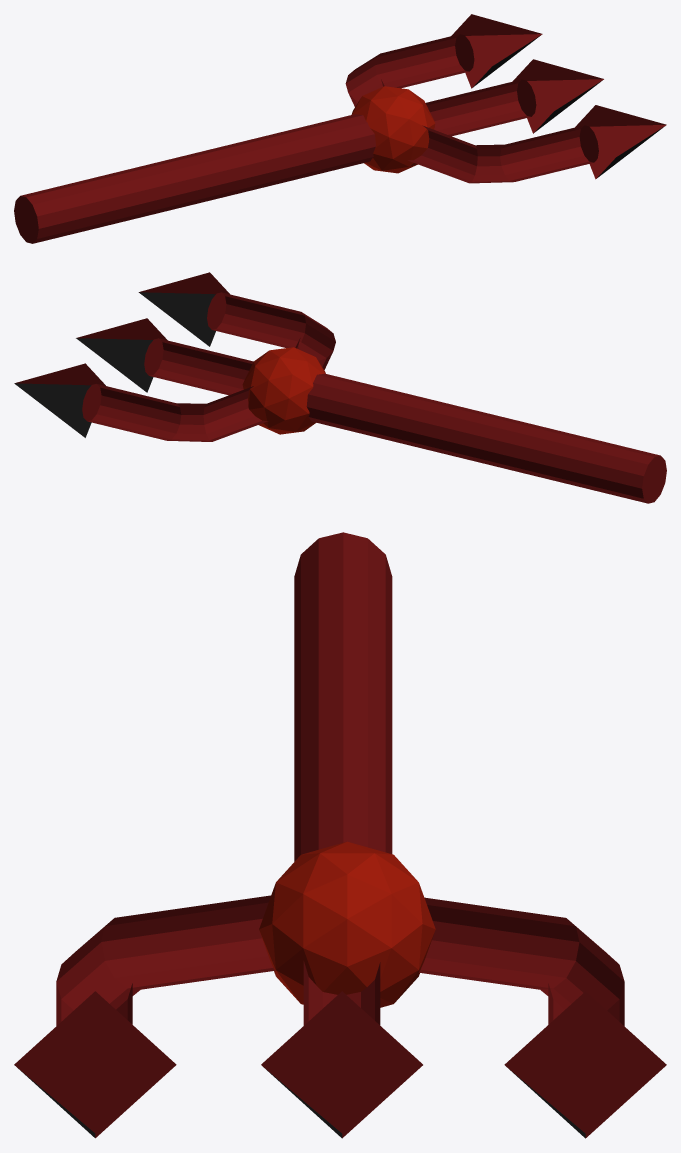
Rendered from AnimationDemonioTridente.fbx.
3 renders of one model, top to bottom at view 1: azimuth 30°, elevation 25°; view 2: azimuth 150°, elevation 25°; view 3: azimuth 270°, elevation 25°, orthographic. The views are drawn at different scales.
Visible parts, largest first — view 1: Cylinder.007; view 2: Cylinder.007; view 3: Cylinder.007.
Boxes of the visible parts, bbox=[...] form: Cylinder.007: bbox=[14, 14, 666, 243]; Cylinder.007: bbox=[14, 272, 666, 503]; Cylinder.007: bbox=[14, 532, 666, 1138].
Size of the model in its own units: 266 by 33.99 by 132.
